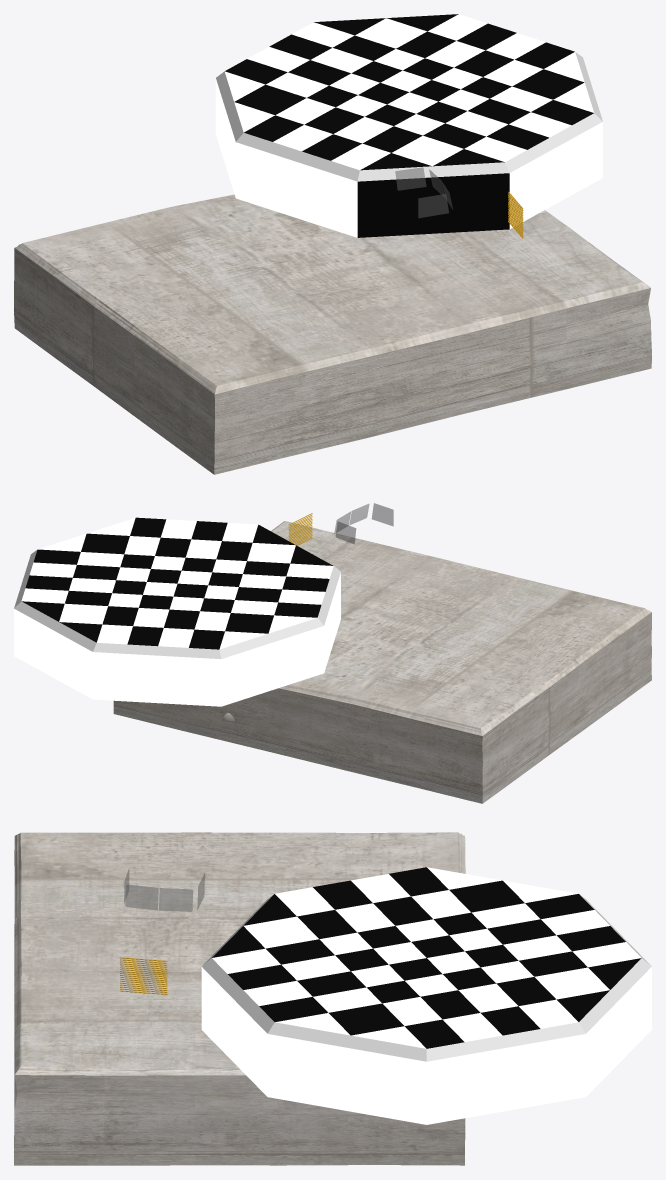
Rendered from FontAeneVand.glb.
3 views of the same model, one above another, from view 1: azimuth 30°, elevation 25°; view 2: azimuth 150°, elevation 25°; view 3: azimuth 270°, elevation 25° (orthographic). The views are drawn at different scales.
Parts seen in each view (by area): view 1: BetonOe, DanseGulv, 03_LSMcTr_Vinduer; view 2: BetonOe, DanseGulv, 03_LSMcTr_Vinduer, Grill.001; view 3: BetonOe, DanseGulv, 03_LSMcTr_Vinduer, Grill.001.
Boxes of the visible parts, box(x1,y1,x2,y2) form: BetonOe: box(14, 194, 651, 474); DanseGulv: box(215, 14, 602, 237); 03_LSMcTr_Vinduer: box(395, 167, 452, 218); BetonOe: box(113, 521, 651, 803); DanseGulv: box(14, 517, 340, 706); 03_LSMcTr_Vinduer: box(334, 503, 393, 544); Grill.001: box(288, 513, 312, 545); BetonOe: box(14, 832, 465, 1165); DanseGulv: box(201, 867, 651, 1124); 03_LSMcTr_Vinduer: box(124, 868, 204, 911); Grill.001: box(120, 957, 167, 994).
Bounding box in the file's own units: 3.18 × 0.977 × 2.83.
30 materials, 7 textured.
